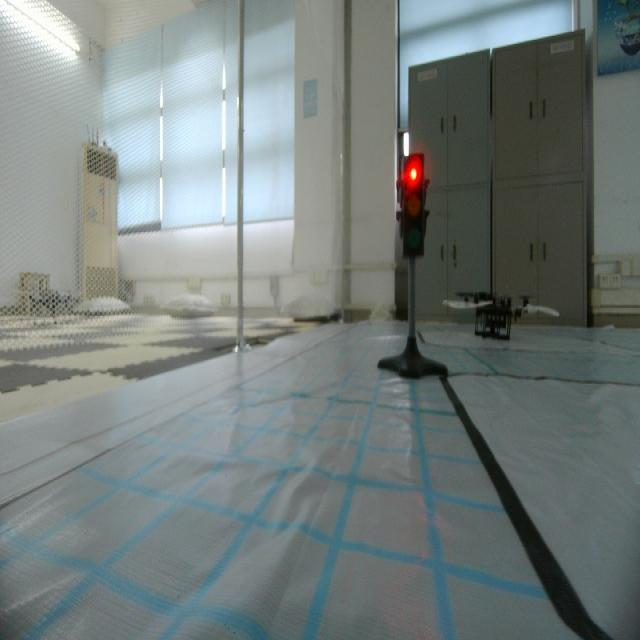red: (397, 149, 430, 263)
